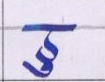u_matra: (23, 59, 57, 77)
